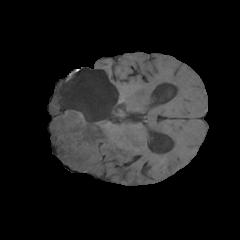glioma: (52, 85, 135, 172)
